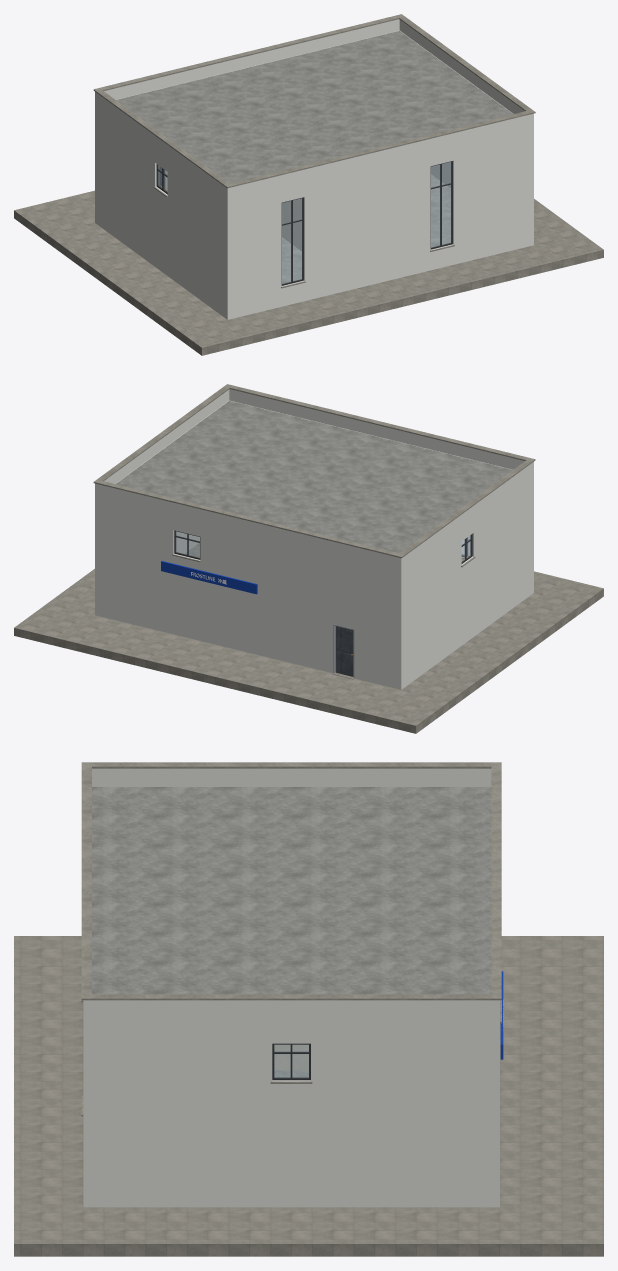
Rendered from b_cold_storage.gltf.
3 views of the same model, one above another, from view 1: azimuth 30°, elevation 25°; view 2: azimuth 150°, elevation 25°; view 3: azimuth 270°, elevation 25° (orthographic). The views are drawn at different scales.
Visible parts, largest first — view 1: S_cold_storage; view 2: S_cold_storage, D_cold_storage_F1_S1_Door0; view 3: S_cold_storage.
Part boxes in pixels (box(x1,y1,x2,y2)): S_cold_storage: box(14, 14, 603, 355); S_cold_storage: box(14, 384, 603, 733); D_cold_storage_F1_S1_Door0: box(335, 626, 353, 676); S_cold_storage: box(14, 762, 603, 1256).
Bounding box in the file's own units: 21 × 7.06 × 17.
14 materials, 7 textured.
